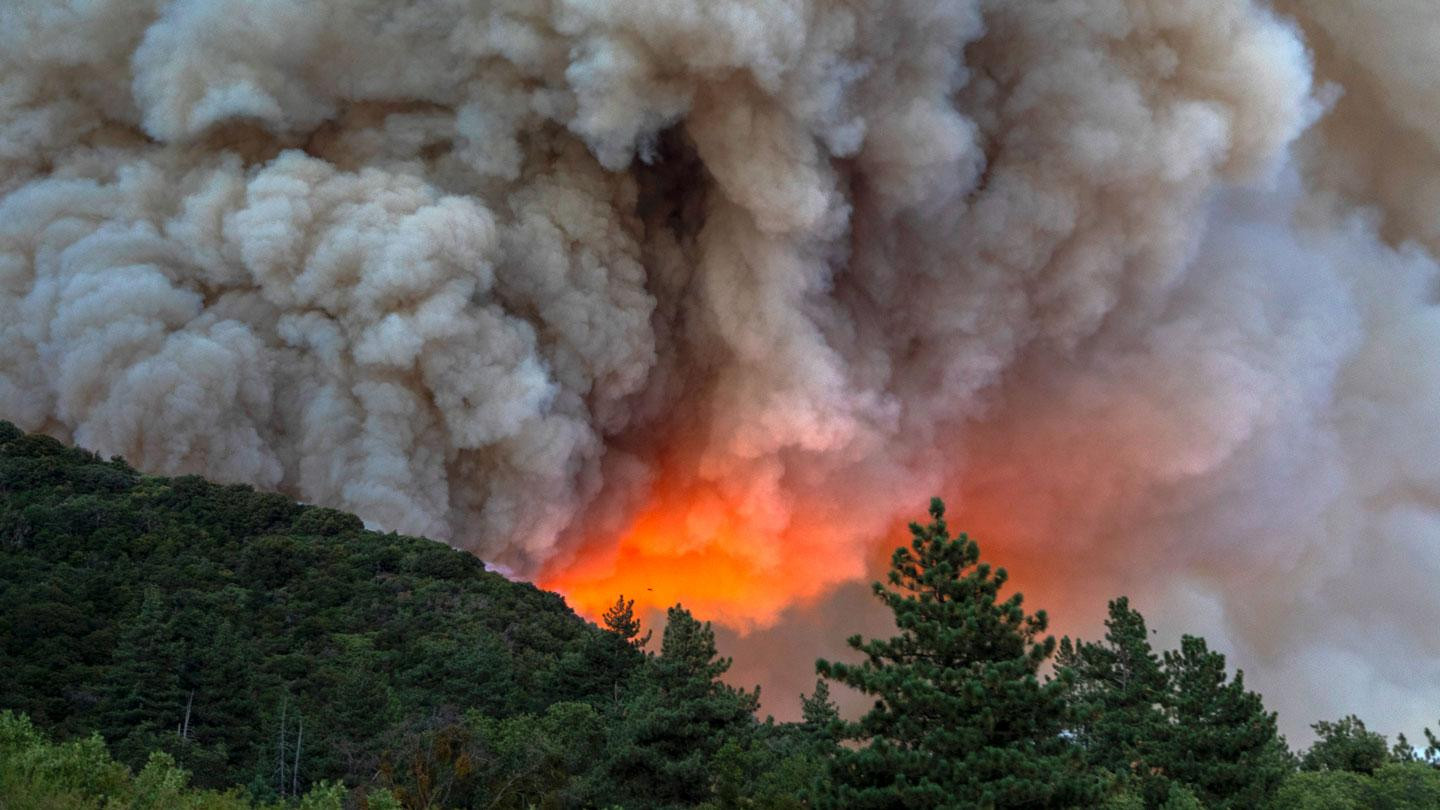fire: (373, 310, 1078, 654)
